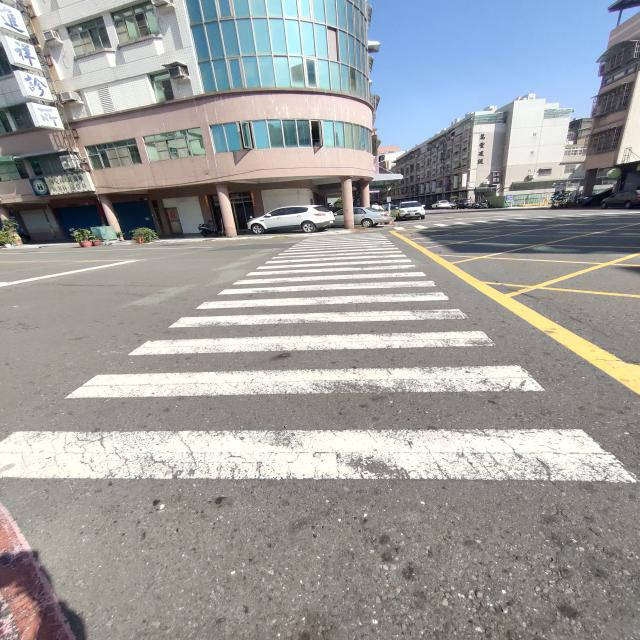zebra crossing: (0, 232, 640, 481), (393, 211, 640, 230)
